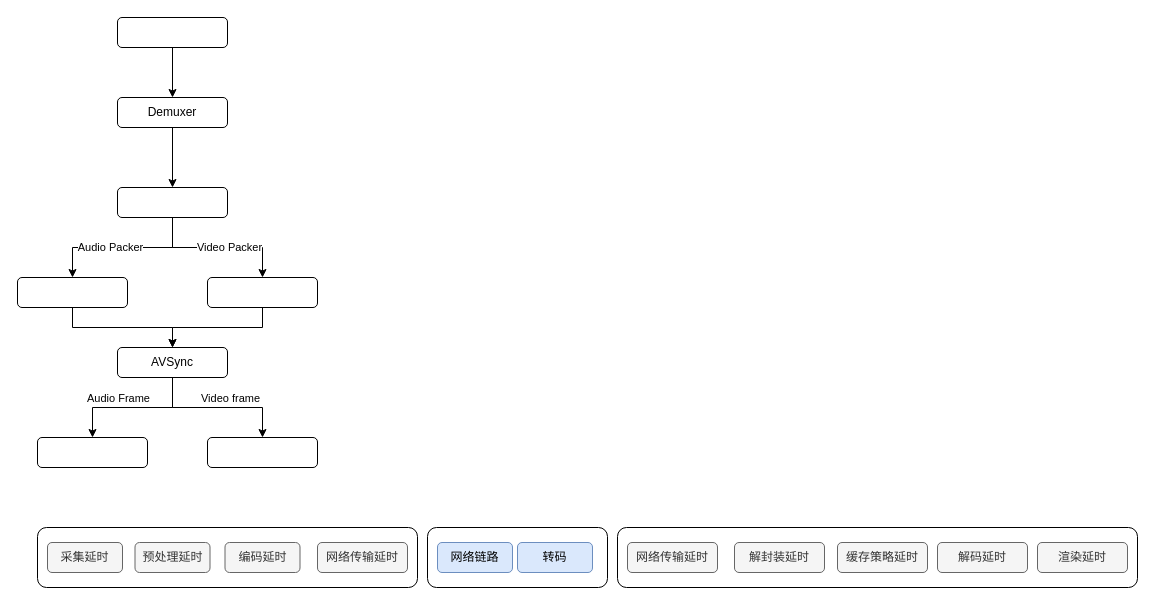
This 1155x605 diagram has some shape labels left out. The centre of each missing label's shape, as x and y in pixels:
"Audio Decoder" belongs at (72,292).
"Audio Render" belongs at (92,452).
"I/O(http,tcp,udp)" belongs at (172,32).
"JitBuffer" belongs at (172,202).
"VIdeo Decoder" belongs at (262,292).
"Video Render" belongs at (262,452).
